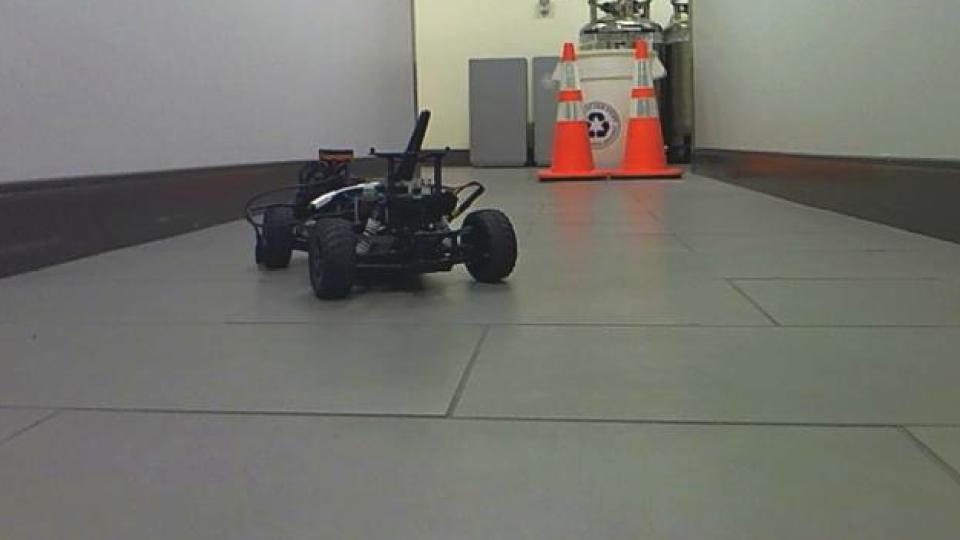car: (242, 108, 522, 302)
